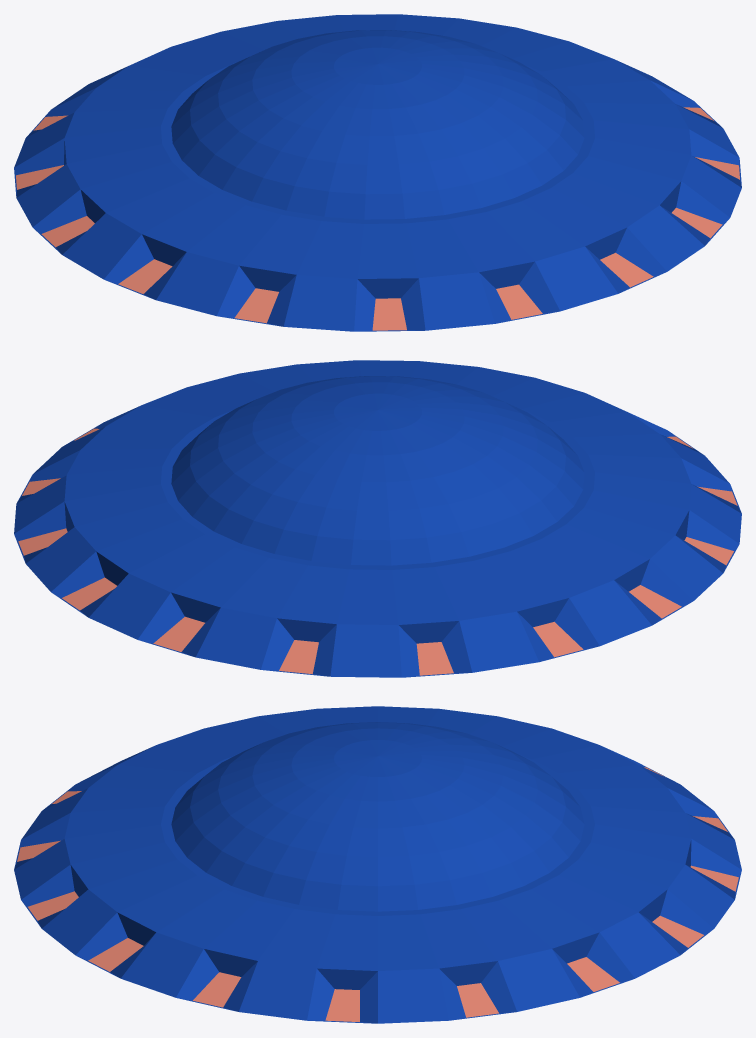
The model's file is UFO.fbx.
3 views of the same model, one above another, from view 1: azimuth 30°, elevation 25°; view 2: azimuth 150°, elevation 25°; view 3: azimuth 270°, elevation 25° (orthographic).
Parts seen in each view (by area): view 1: Cylinder; view 2: Cylinder; view 3: Cylinder.
Boxes of the visible parts, x1,y1,x2,y2 form: Cylinder: [14, 14, 741, 331]; Cylinder: [14, 360, 741, 677]; Cylinder: [14, 706, 741, 1023].
Bounding box in the file's own units: 381 × 99.52 × 381.
